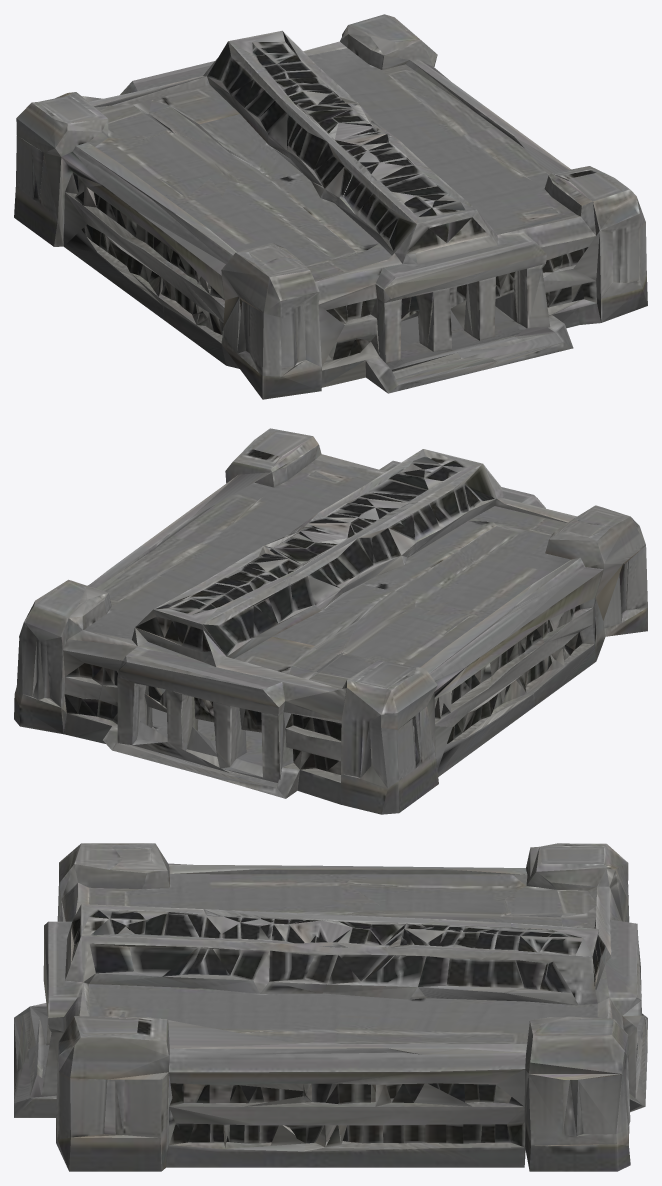
The model's file is imperial_stock_exchange_lod2.glb.
3 renders of one model, top to bottom at view 1: azimuth 30°, elevation 25°; view 2: azimuth 150°, elevation 25°; view 3: azimuth 270°, elevation 25°, orthographic. The views are drawn at different scales.
Parts seen in each view (by area): view 1: mesh_node; view 2: mesh_node; view 3: mesh_node.
Boxes of the visible parts, left/top/right/bottom form: mesh_node: left=14, top=14, right=647, bottom=399; mesh_node: left=14, top=428, right=647, bottom=814; mesh_node: left=14, top=843, right=647, bottom=1171.
Bounding box in the file's own units: 28.44 × 9.42 × 36.74.
1 material, 1 textured.
